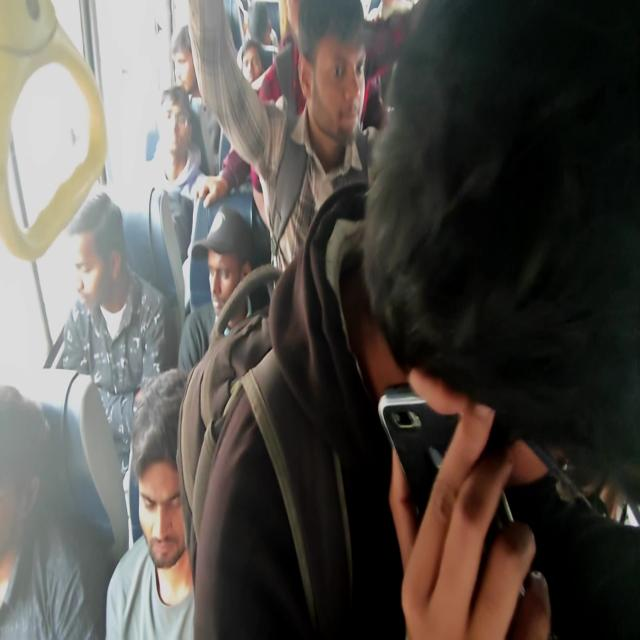person: (308, 34, 372, 144), (172, 25, 208, 85), (247, 5, 273, 46), (242, 40, 264, 88)
